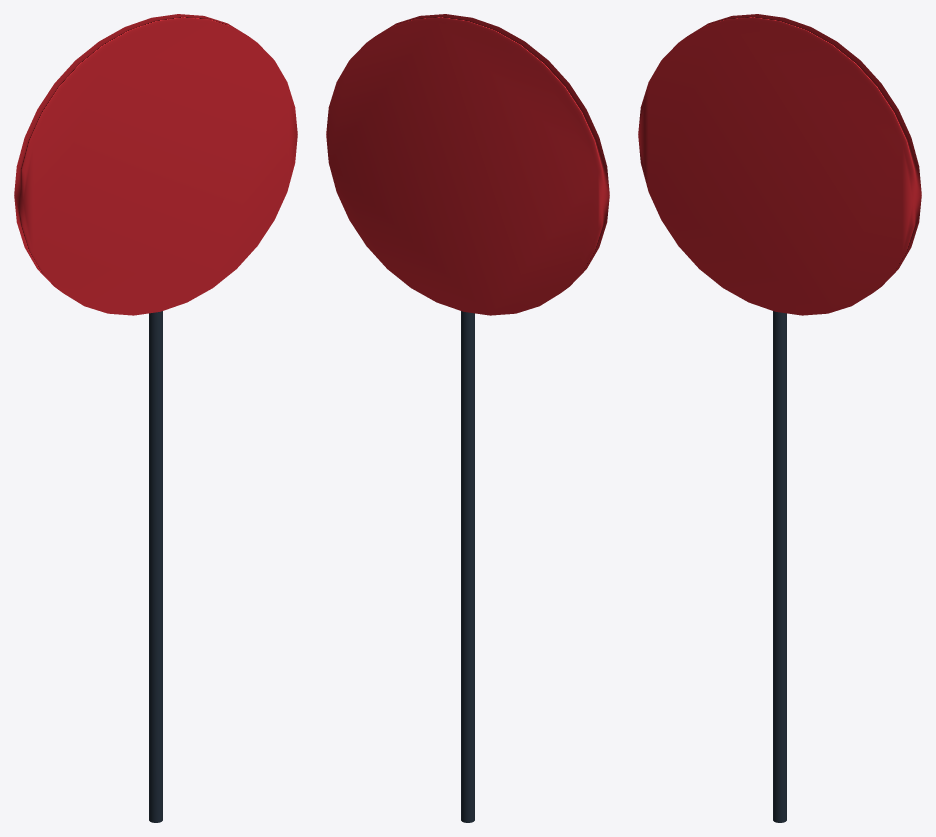
The model's file is black_stop.glb.
3 views of the same model, side by side, from view 1: azimuth 30°, elevation 25°; view 2: azimuth 150°, elevation 25°; view 3: azimuth 330°, elevation 25° (orthographic).
Parts seen in each view (by area): view 1: black stop; view 2: black stop; view 3: black stop.
Part boxes in pixels (bbox=[...]): black stop: bbox=[14, 14, 297, 822]; black stop: bbox=[326, 14, 609, 822]; black stop: bbox=[638, 14, 921, 822].
Bounding box in the file's own units: 2 × 5.56 × 0.1139.
